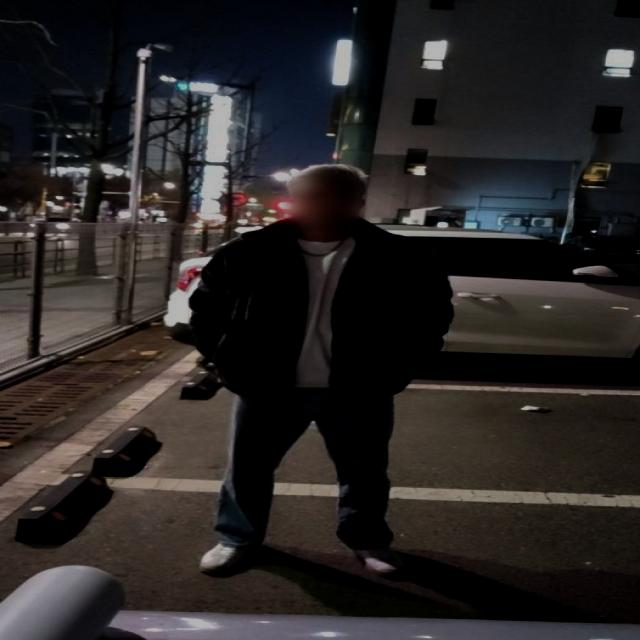denimpants: (216, 379, 398, 546)
jacket: (184, 221, 454, 397)
